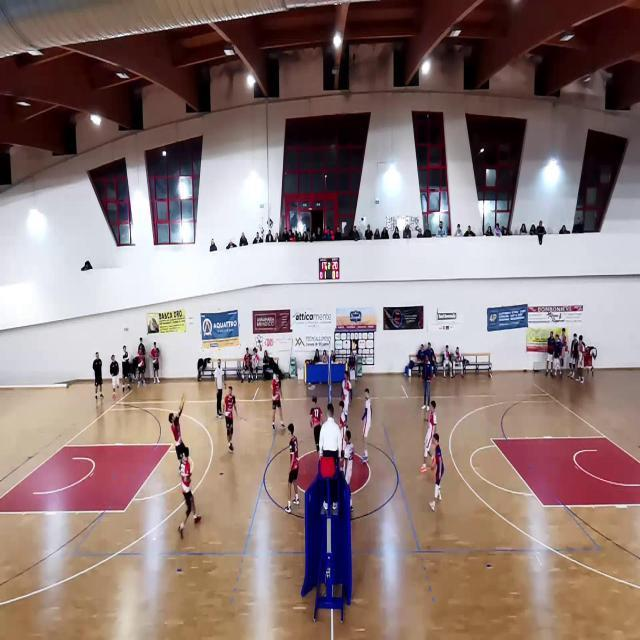volleyball: (178, 393, 187, 410)
